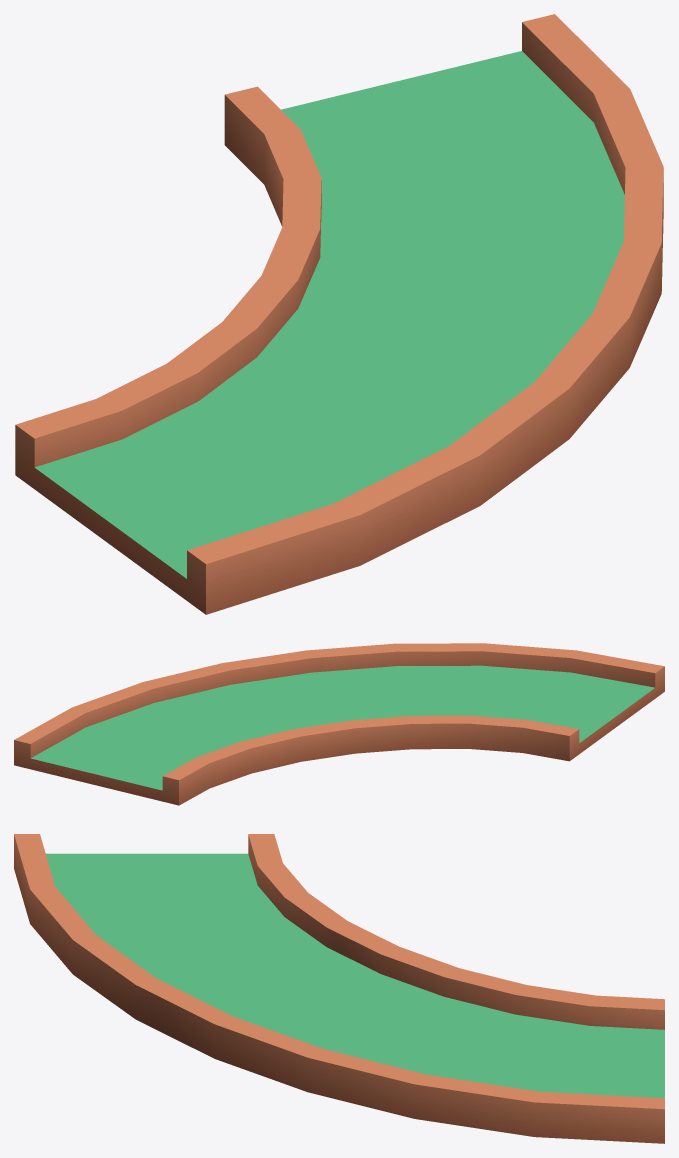
File: spline-default-corner-small.glb
The picture shows the model from 3 angles, top to bottom: view 1: azimuth 30°, elevation 25°; view 2: azimuth 150°, elevation 25°; view 3: azimuth 270°, elevation 25°; orthographic projection. The views are drawn at different scales.
Visible parts, largest first — view 1: spline-default-corner-small; view 2: spline-default-corner-small; view 3: spline-default-corner-small.
Boxes of the visible parts, bbox=[...] form: spline-default-corner-small: bbox=[15, 14, 663, 614]; spline-default-corner-small: bbox=[14, 643, 664, 805]; spline-default-corner-small: bbox=[14, 834, 664, 1143].
Bounding box in the file's own units: 2.5 × 0.1466 × 2.5.
Materials: 1 (1 with a texture image).
